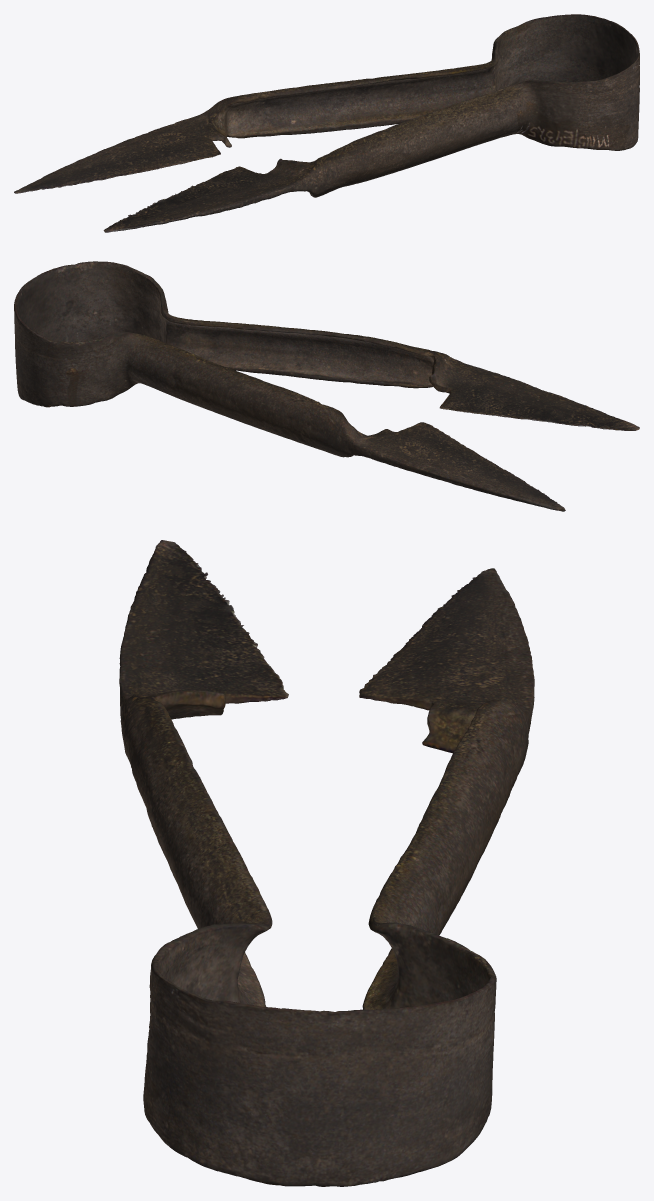
3 renders of one model, top to bottom at view 1: azimuth 30°, elevation 25°; view 2: azimuth 150°, elevation 25°; view 3: azimuth 270°, elevation 25°, orthographic. The views are drawn at different scales.
Parts seen in each view (by area): view 1: MNS_E_4325_Baked; view 2: MNS_E_4325_Baked; view 3: MNS_E_4325_Baked.
Part boxes in pixels (x1,y1,x2,y2): MNS_E_4325_Baked: (14, 14, 639, 232); MNS_E_4325_Baked: (14, 261, 639, 511); MNS_E_4325_Baked: (119, 540, 534, 1186).
Size of the model in its own units: 0.2697 by 0.0407 by 0.0852.
1 material, 1 textured.
